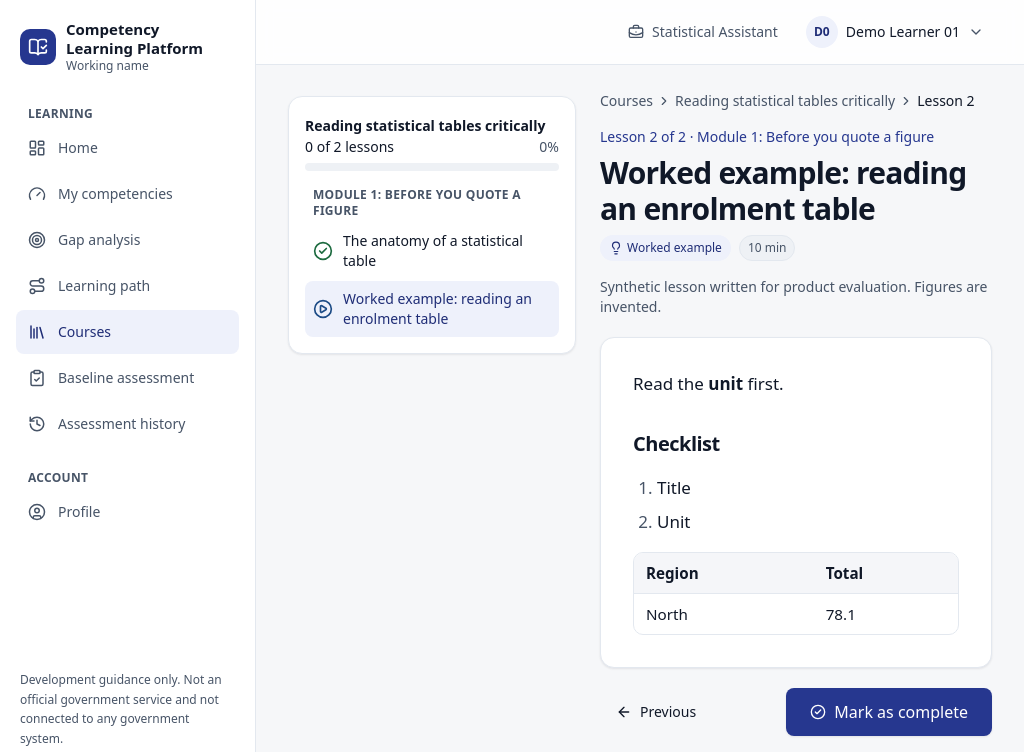
Test case: lesson player › does not re-open a completed lesson and announces course completion on the last lesson
The width and height of the screenshot is (1024, 752).
(page scrolled)
Click the button "Mark as complete".
click(889, 712)  # box left=786, top=688, right=992, bottom=736
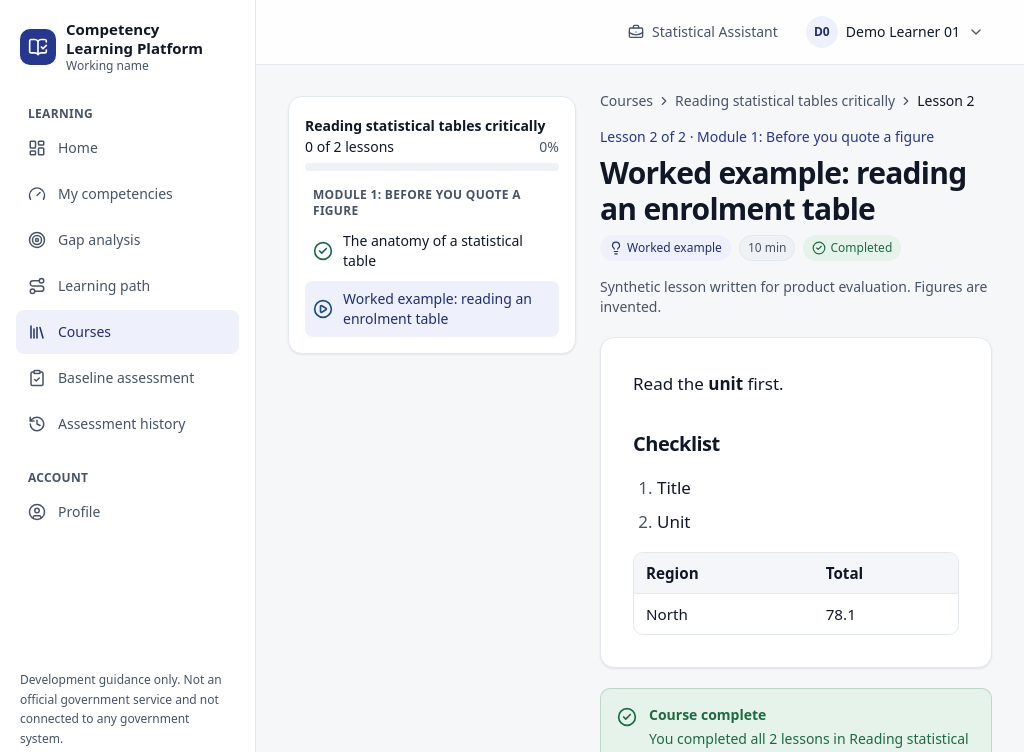
Result: the text "Course complete" is shown at left=649, top=704, right=766, bottom=724
